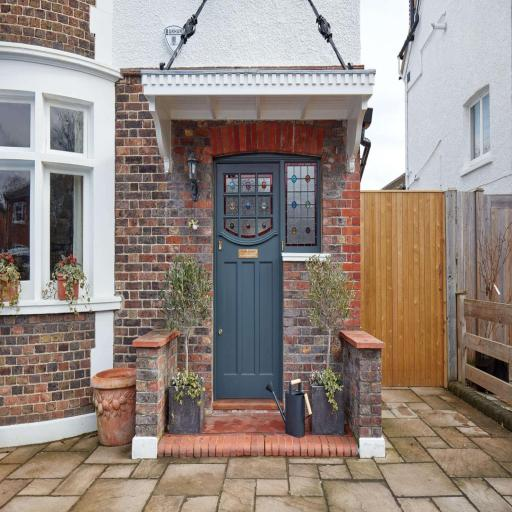door: (209, 160, 294, 412)
